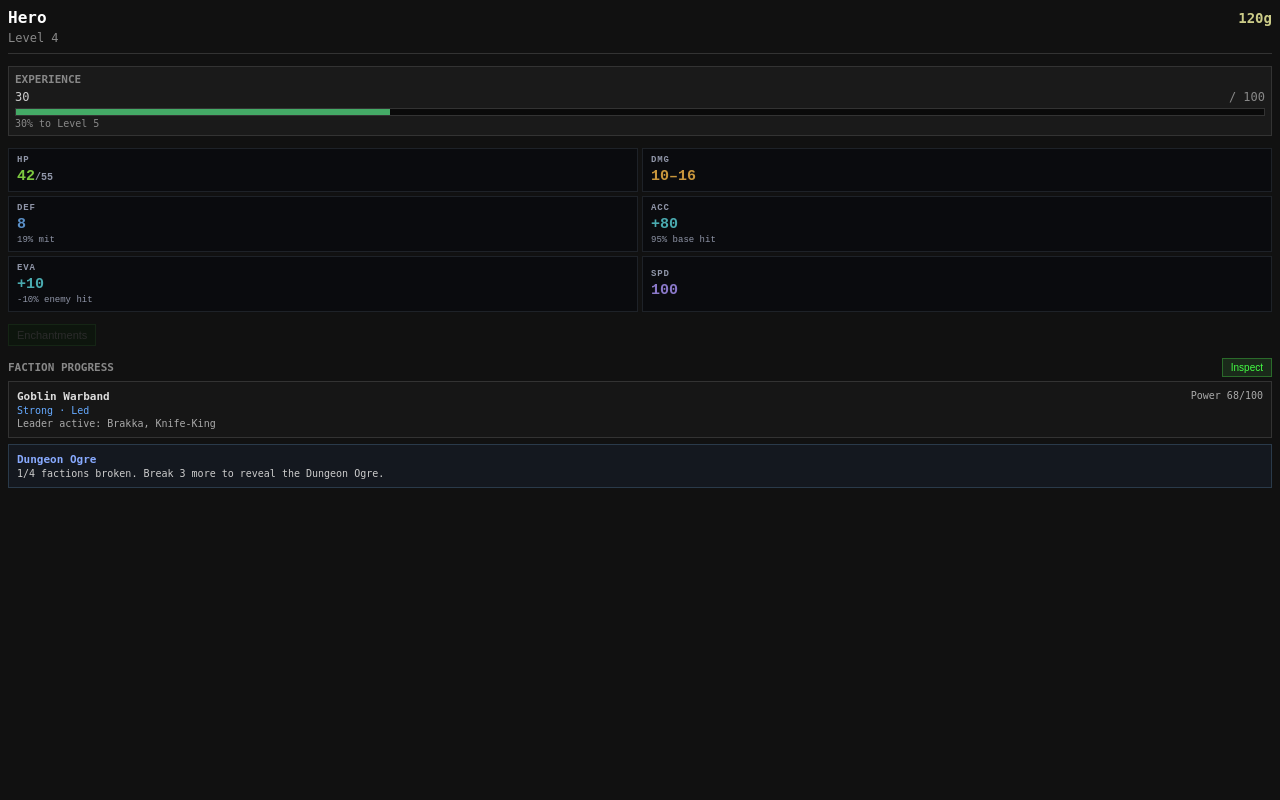
Test: CharacterScreen faction progress › opens the faction detail modal with leader and town impact details
Click the button "Inspect". click: point(1247, 368)
box: x1=1222 y1=358 x2=1272 y2=377
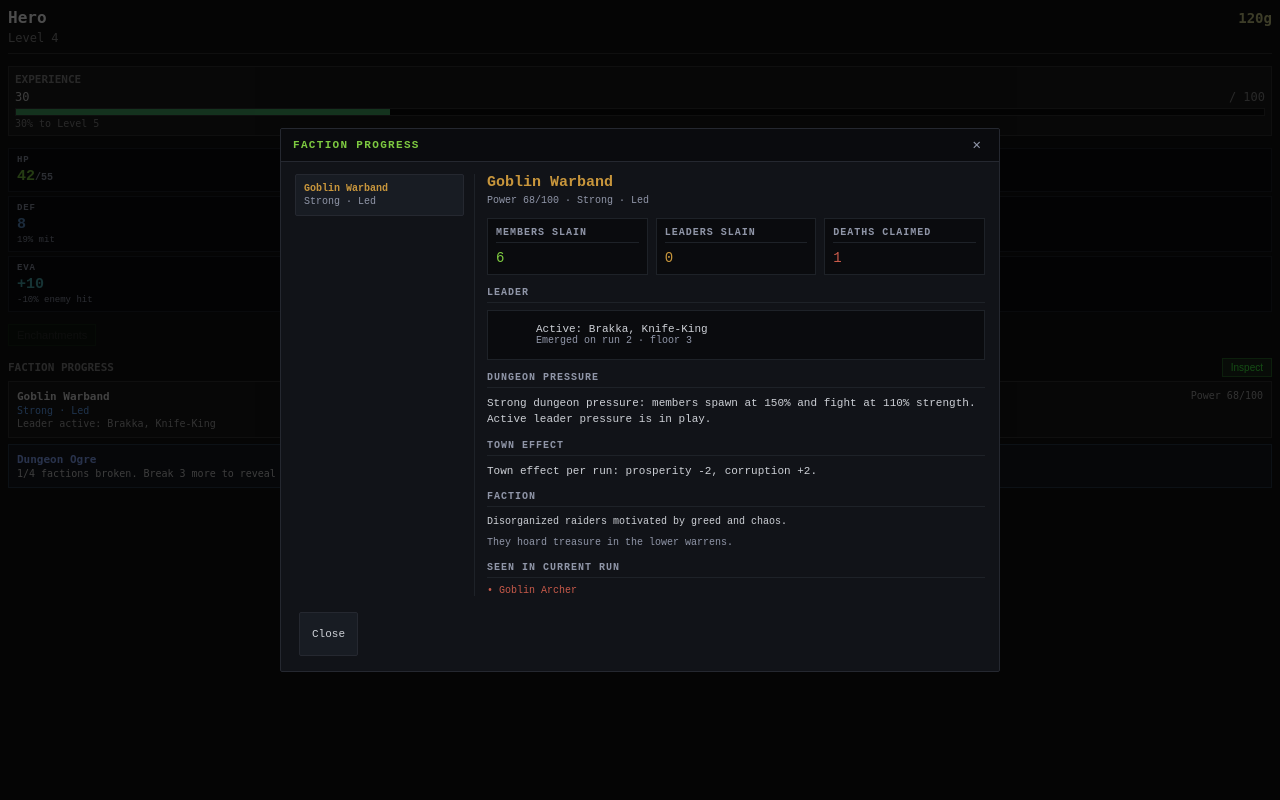
expect the text "Town effect per run: prosperity -2, corruption +2." is shown: met, box x1=487 y1=465 x2=817 y2=477
expect the text "Members Slain" is shown: met, box x1=496 y1=227 x2=639 y2=243
